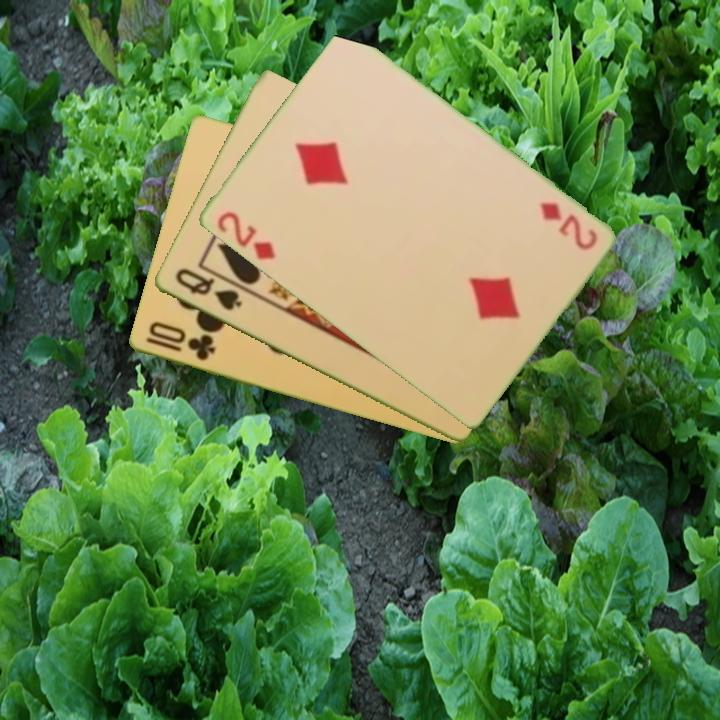10c: (142, 318, 218, 364)
2d: (213, 208, 278, 263), (536, 198, 600, 253)
Qs: (171, 265, 245, 314)
